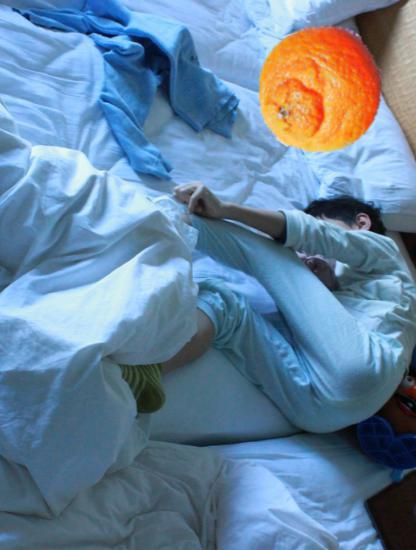Mandarine: (254, 23, 387, 156)
